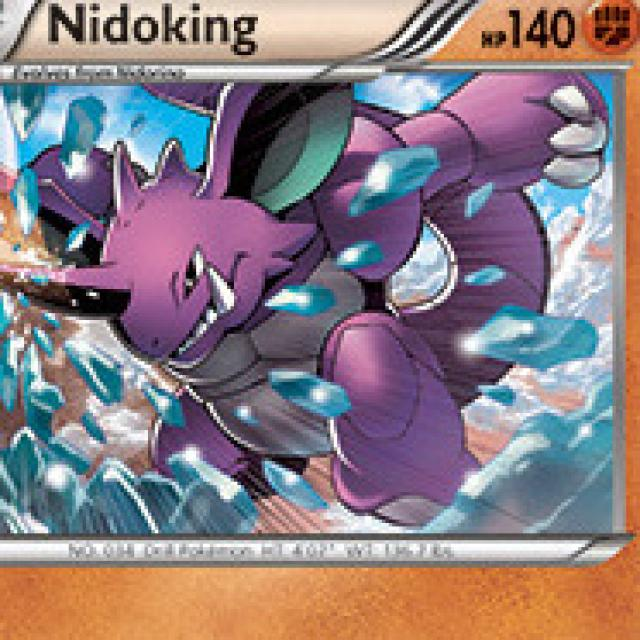Nidoking: (50, 84, 477, 498)
